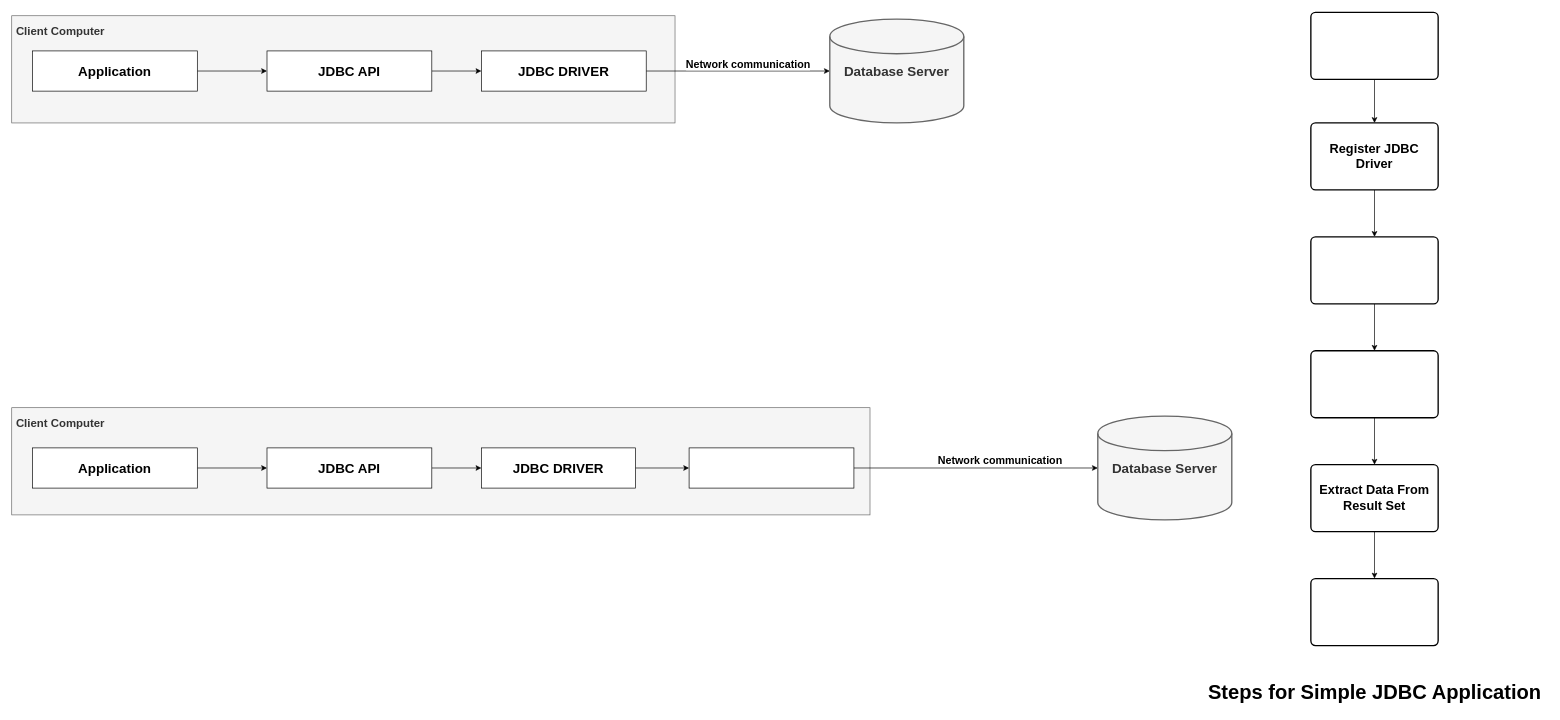
This 1560x720 diagram has some shape labels left out. Here are the shapes that lost their labels. From the top down, the centre of each, then its label:
At pixel 1374 45: "Import Package".
At pixel 1374 270: "Open Database Connection".
At pixel 1374 384: "Execute a Query".
At pixel 771 467: "ODBC DRIVER".
At pixel 1374 612: "Clean Up Environment\".
